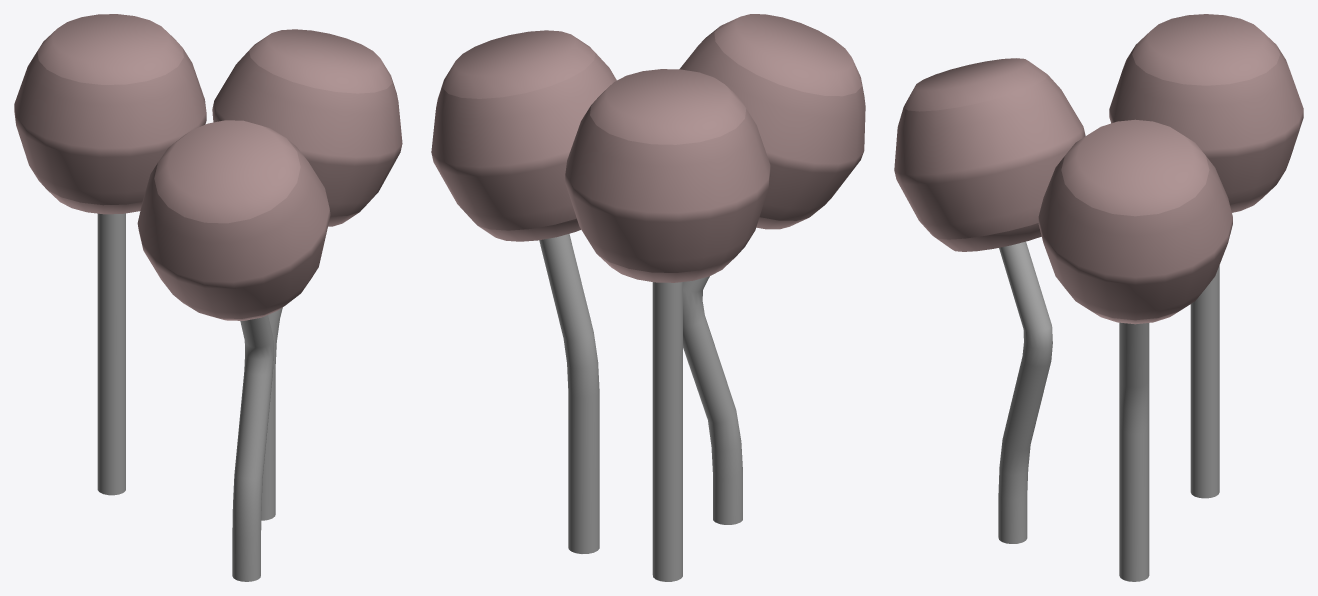
The model's file is courtyard_flower.fbx.
The picture shows the model from 3 angles, left to right: view 1: azimuth 30°, elevation 25°; view 2: azimuth 150°, elevation 25°; view 3: azimuth 270°, elevation 25°; orthographic projection. The views are drawn at different scales.
Parts seen in each view (by area): view 1: flower_bundle_c; view 2: flower_bundle_c; view 3: flower_bundle_c.
Part boxes in pixels (x1,y1,x2,y2): flower_bundle_c: (14, 14, 402, 581); flower_bundle_c: (431, 14, 865, 581); flower_bundle_c: (894, 14, 1303, 581).
Bounding box in the file's own units: 0.6957 × 0.9697 × 0.7487.
